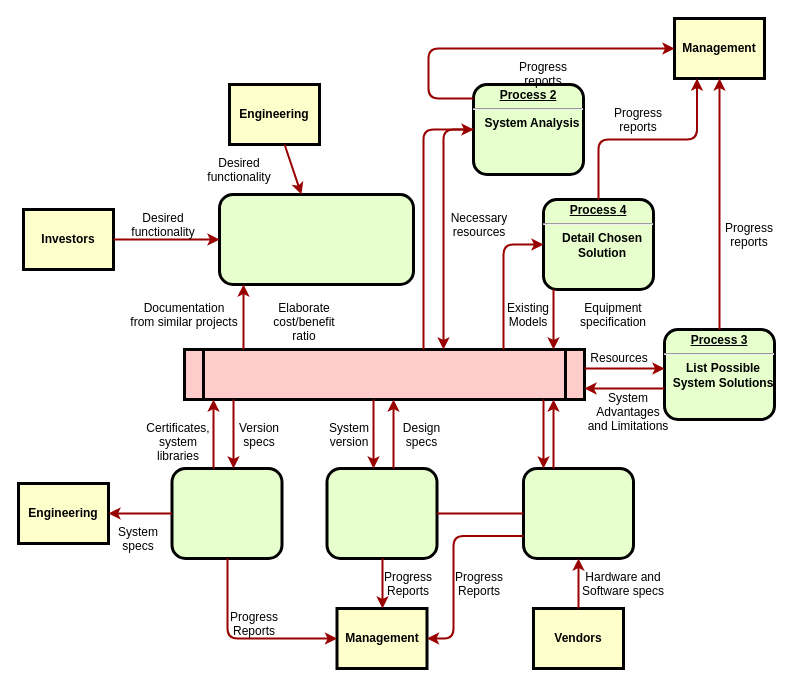
Image size: 793x687. Some labels were removed from this diagram. Each missing label, with the box of its shape:
Process 5 New System Design: (522, 466, 634, 560)
Process 6 New System Construction: (170, 466, 283, 560)
Process 7 New System Startup and Testing: (325, 466, 438, 560)
Микросервис, получает данные по АПИ из РВР: (218, 192, 414, 286)
РВР: (182, 348, 586, 400)
